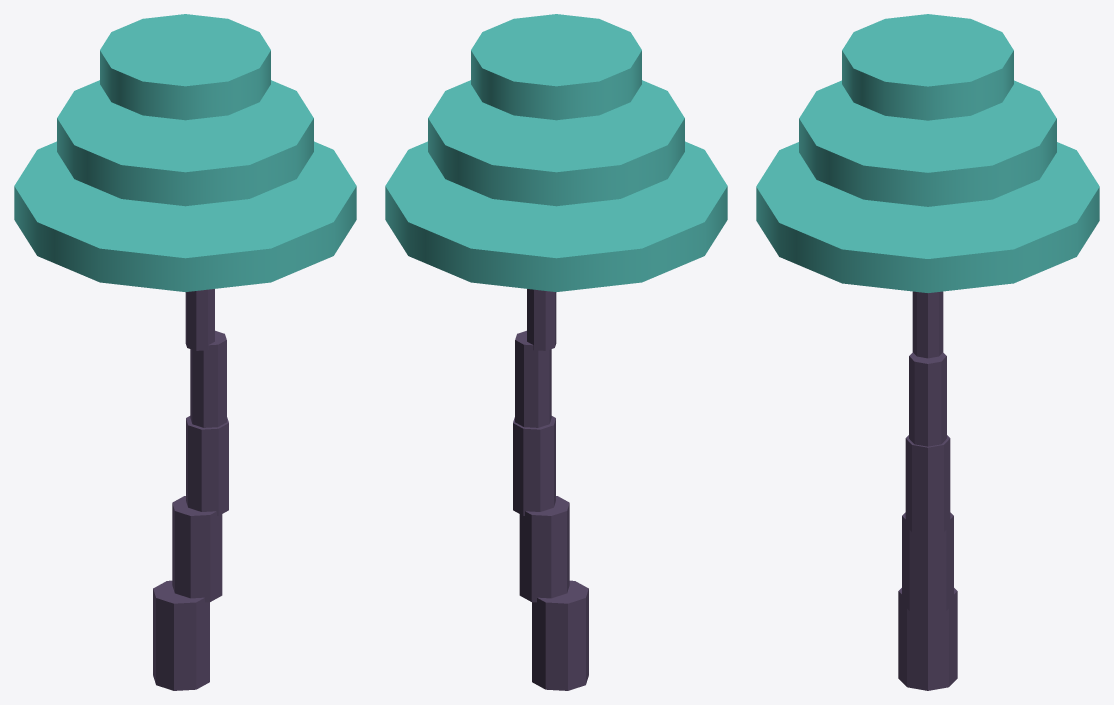
Rendered from flora_tree_disc.glb.
The picture shows the model from 3 angles, left to right: view 1: azimuth 30°, elevation 25°; view 2: azimuth 150°, elevation 25°; view 3: azimuth 270°, elevation 25°; orthographic projection.
Parts seen in each view (by area): view 1: Disc0, Disc1, Disc2, Seg0, Seg1, Seg2, Seg3, Seg4; view 2: Disc0, Disc1, Disc2, Seg0, Seg1, Seg2, Seg3, Seg4; view 3: Disc0, Disc1, Disc2, Seg0, Seg1, Seg2, Seg3, Seg4.
Part boxes in pixels (x1,y1,x2,y2): Disc0: (14, 141, 356, 292); Disc1: (57, 80, 313, 206); Disc2: (100, 14, 270, 120); Seg0: (153, 580, 209, 690); Seg1: (172, 496, 222, 602); Seg2: (186, 416, 228, 515); Seg3: (190, 330, 226, 427); Seg4: (185, 289, 214, 350); Disc0: (385, 141, 727, 292); Disc1: (428, 80, 684, 206); Disc2: (471, 14, 641, 120); Seg0: (532, 580, 588, 690); Seg1: (519, 496, 569, 602); Seg2: (513, 416, 555, 515); Seg3: (515, 330, 551, 427); Seg4: (527, 289, 556, 350); Disc0: (756, 142, 1099, 292); Disc1: (799, 80, 1056, 206); Disc2: (842, 14, 1013, 120); Seg0: (898, 588, 957, 690); Seg1: (902, 512, 953, 614); Seg2: (905, 435, 950, 534); Seg3: (909, 352, 946, 446); Seg4: (912, 291, 943, 358).
Size of the model in its own units: 3.2 by 6.48 by 3.2.
